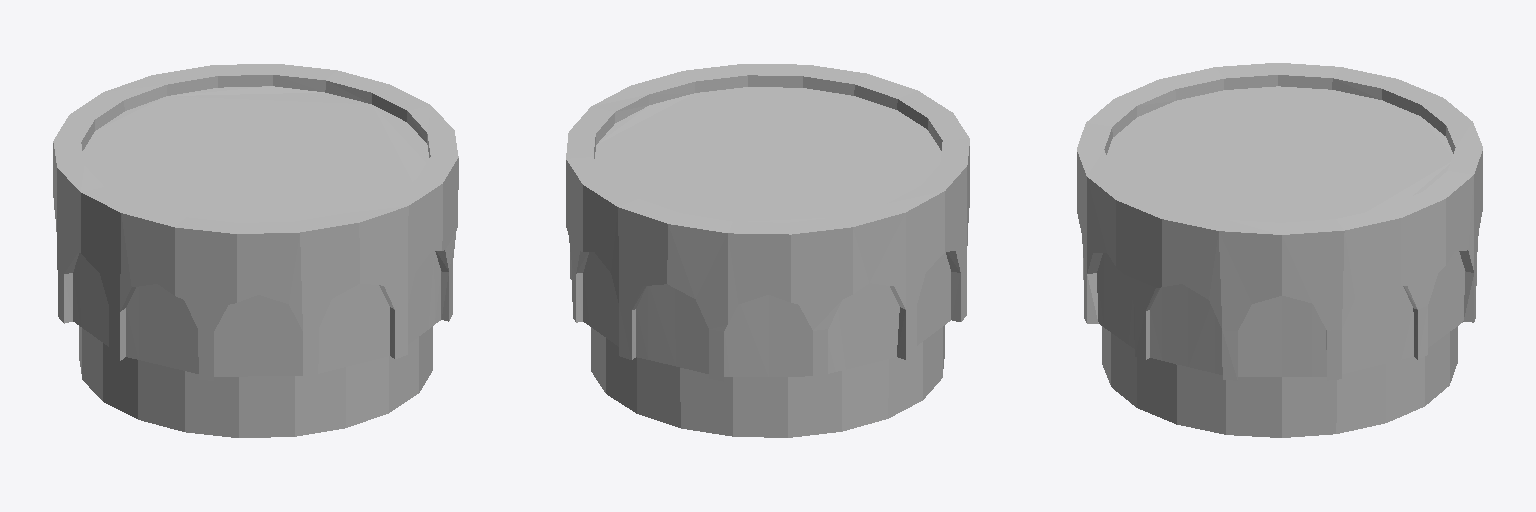
File: table_4.obj
3 views of the same model, side by side, from view 1: azimuth 30°, elevation 25°; view 2: azimuth 150°, elevation 25°; view 3: azimuth 270°, elevation 25° (orthographic).
Parts seen in each view (by area): view 1: Mesa1.003_Cylinder.003; view 2: Mesa1.003_Cylinder.003; view 3: Mesa1.003_Cylinder.003.
Boxes of the visible parts, x1,y1,x2,y2 form: Mesa1.003_Cylinder.003: [53, 64, 458, 437]; Mesa1.003_Cylinder.003: [566, 64, 969, 437]; Mesa1.003_Cylinder.003: [1077, 63, 1482, 437].
Size of the model in its own units: 1.2 by 0.6999 by 1.2.